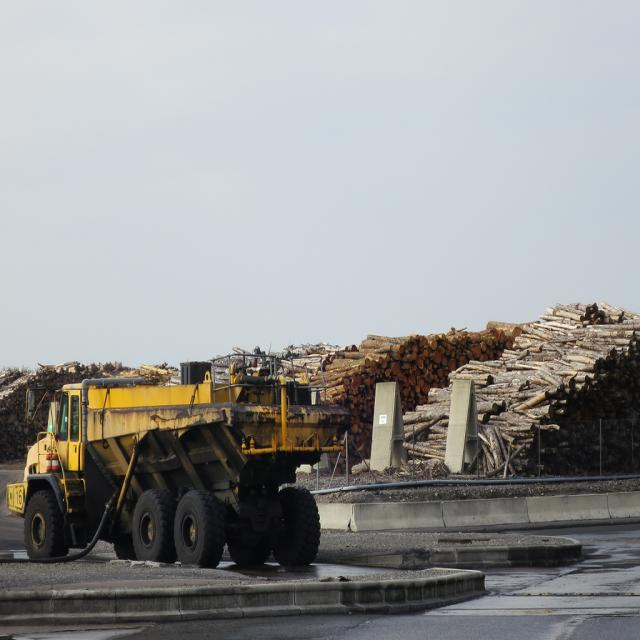Heavy Duty Truck: (6, 355, 353, 573)
